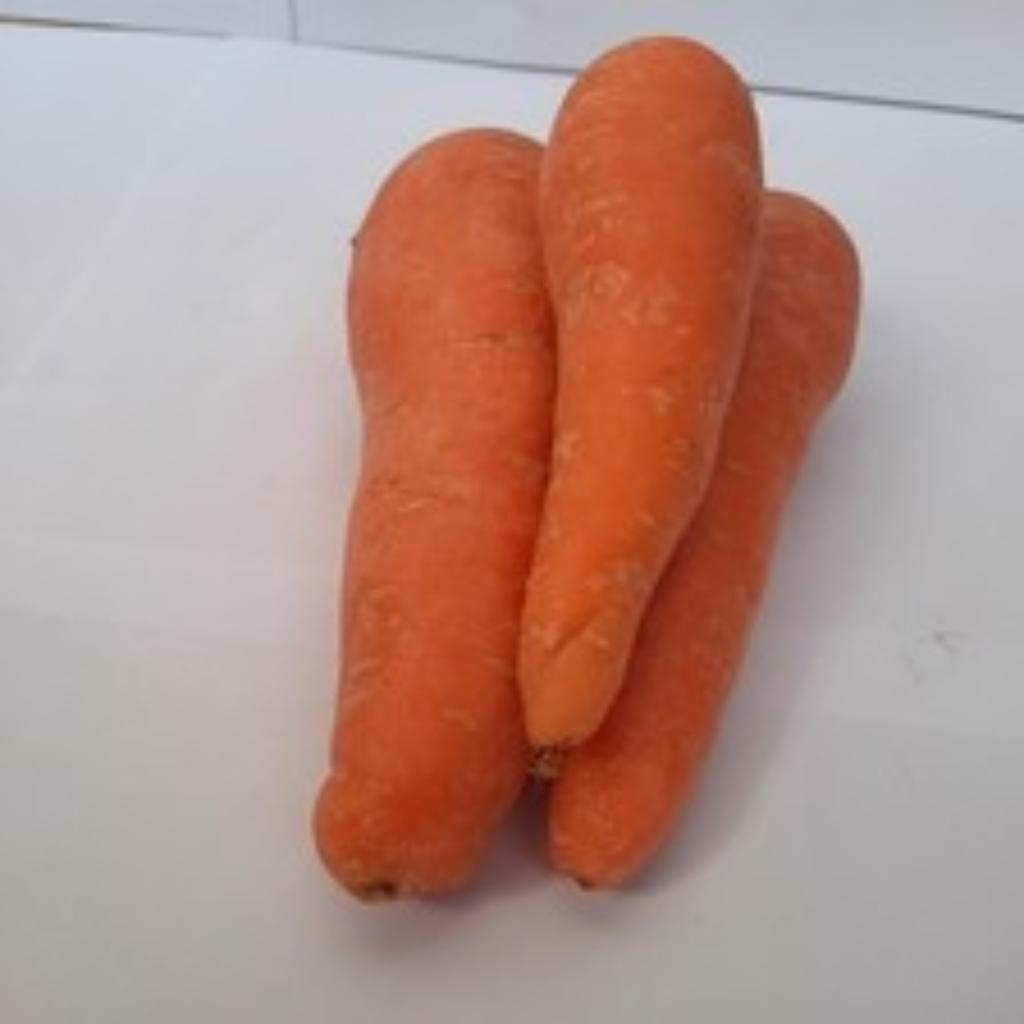carrot: (544, 187, 850, 878), (311, 123, 544, 887), (512, 32, 754, 741)
